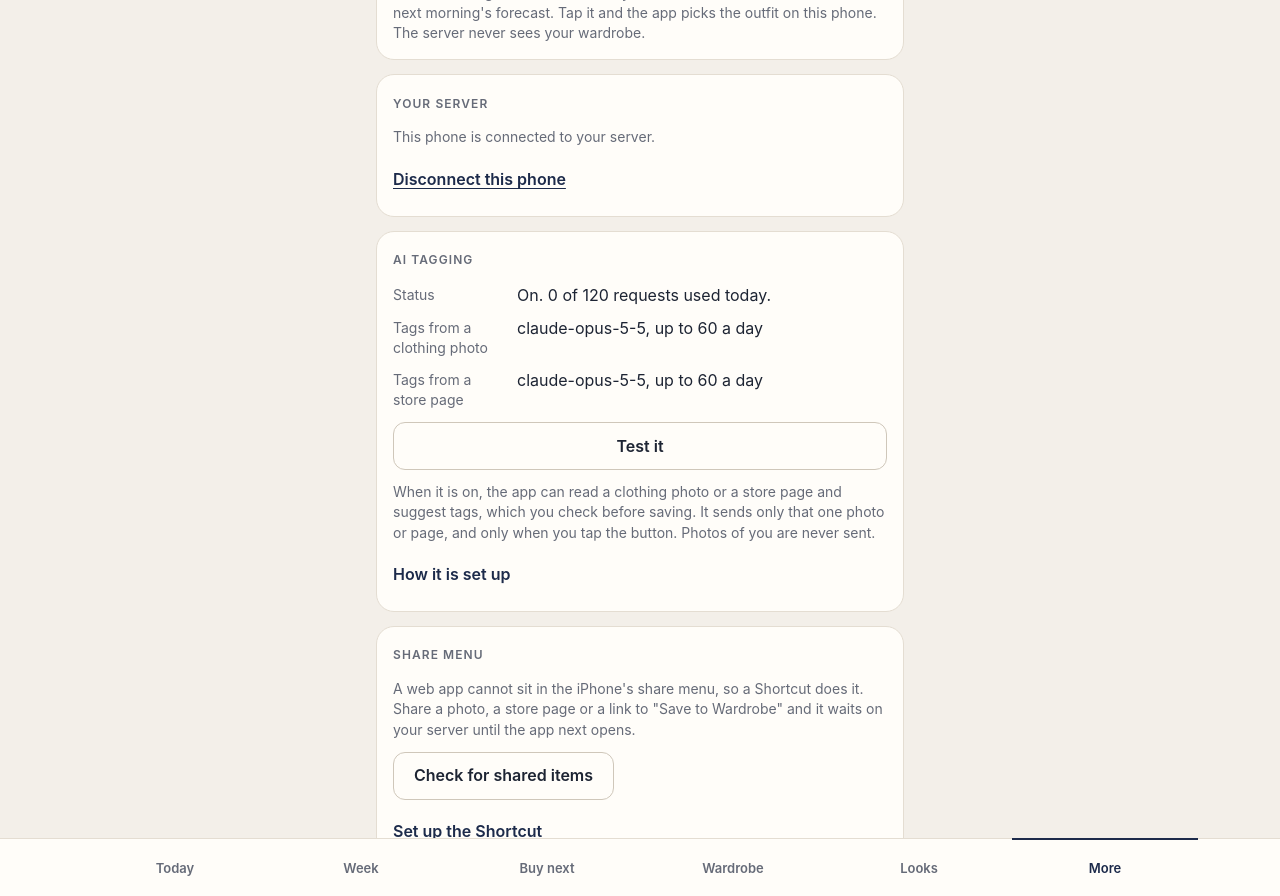
Scenario: AI tagging in Settings › explains a failed test in plain words
The width and height of the screenshot is (1280, 896).
(page scrolled)
Click the button "Test it" at (640, 446), box [393,422,887,470]
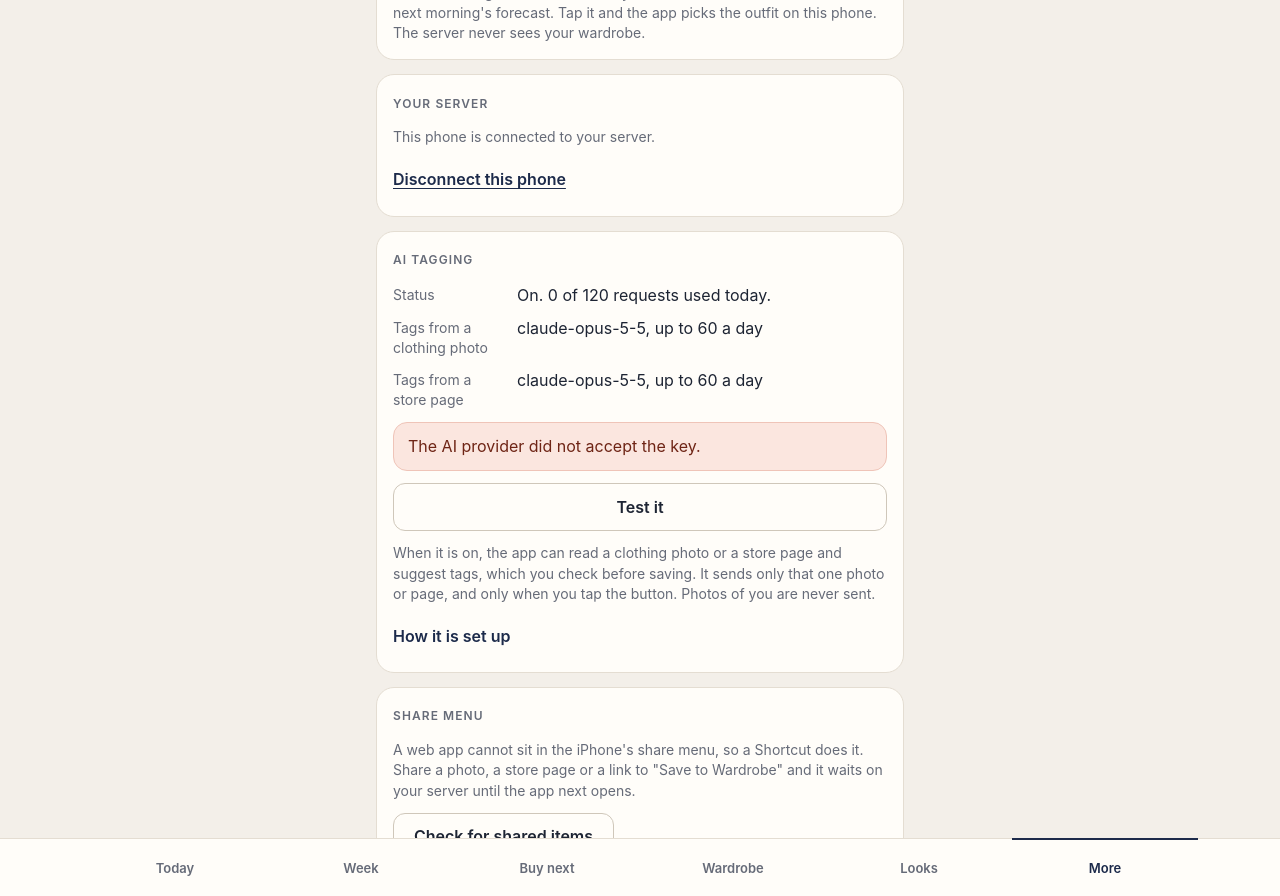
Now the message reads "The AI provider did not accept the key.", box [408,436,700,456]
